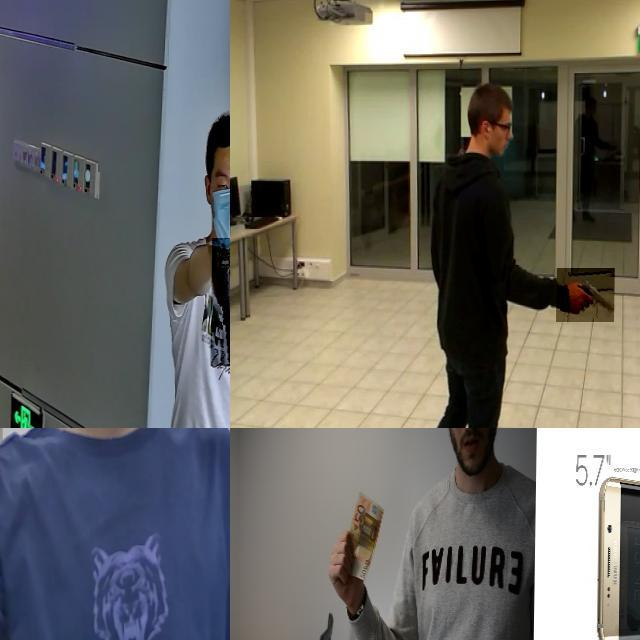gun-knife-thesis - v11 Yolov5 augmented: (0, 428, 58, 584), (558, 268, 617, 322), (211, 238, 230, 366)
